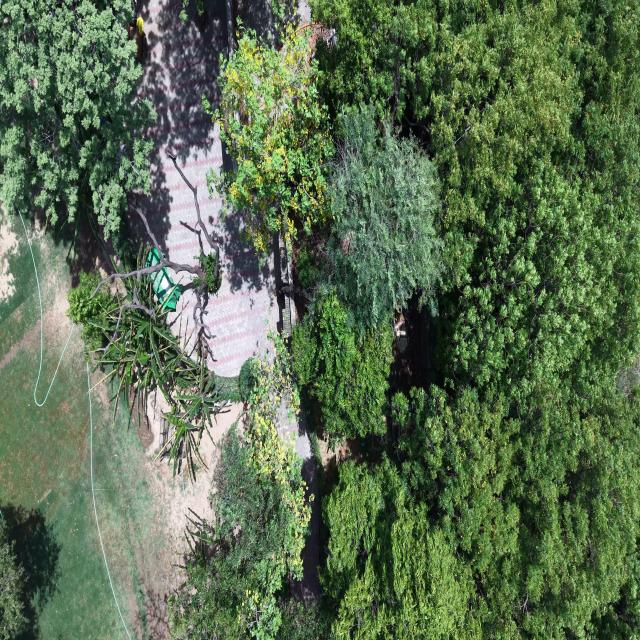DRY_AREA: (138, 0, 281, 375), (0, 214, 126, 639), (137, 0, 278, 375), (139, 0, 278, 375)
VEGETATION_TREE: (172, 0, 639, 639), (292, 0, 639, 638), (314, 0, 639, 638), (314, 0, 639, 399), (394, 384, 639, 637), (68, 151, 242, 479), (292, 106, 440, 440), (171, 338, 313, 639), (0, 0, 155, 237), (68, 273, 237, 478), (204, 26, 333, 253), (322, 458, 481, 639), (327, 106, 441, 330), (171, 429, 293, 638), (310, 0, 494, 119), (245, 336, 313, 577), (291, 291, 392, 440), (68, 271, 119, 352), (0, 518, 24, 639), (277, 599, 330, 639), (192, 249, 222, 294), (296, 244, 320, 289), (616, 358, 640, 396), (238, 357, 256, 402), (179, 0, 188, 26)
